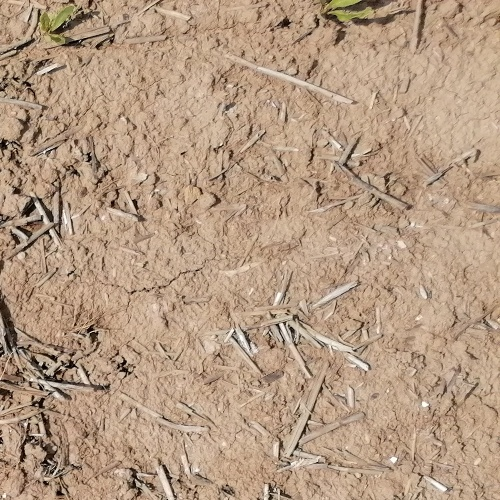beet: (319, 0, 374, 25), (38, 7, 74, 44)
